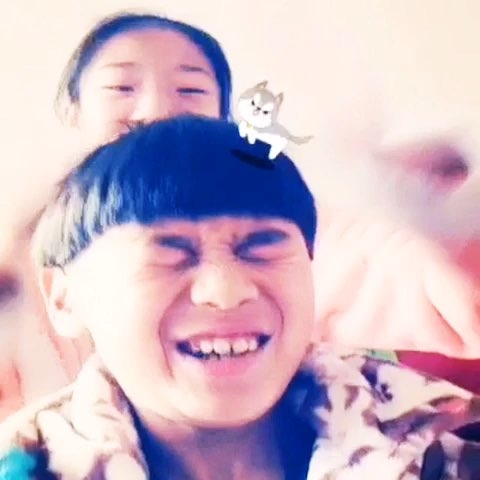face: (93, 169, 313, 425), (79, 30, 220, 180)
